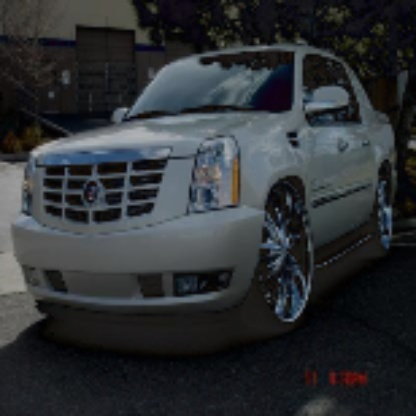Vehicle: (9, 32, 406, 365)
